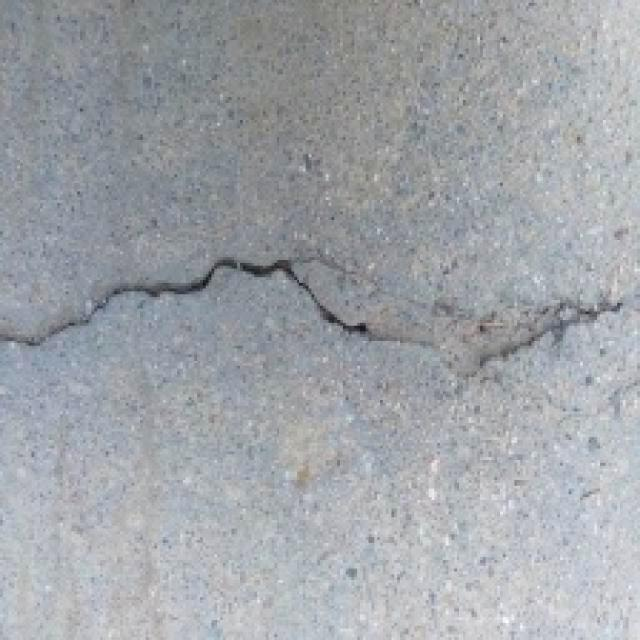SurfaceCrack: (0, 238, 628, 402)
